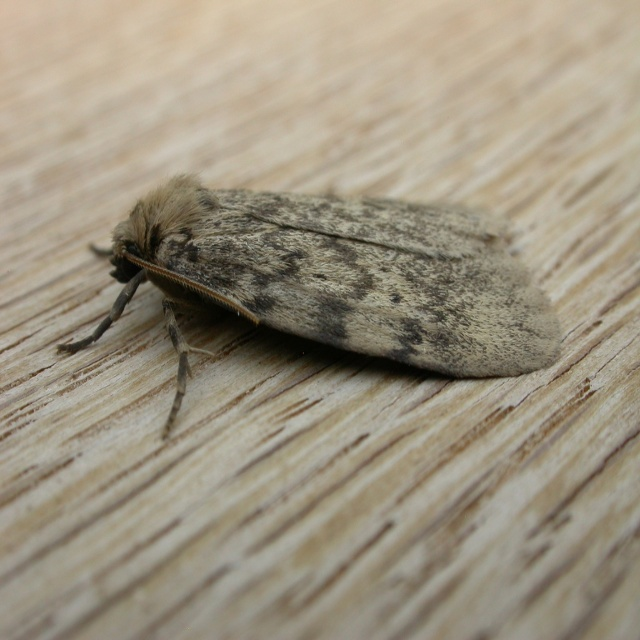Moths and butterflies: (55, 168, 563, 446)
